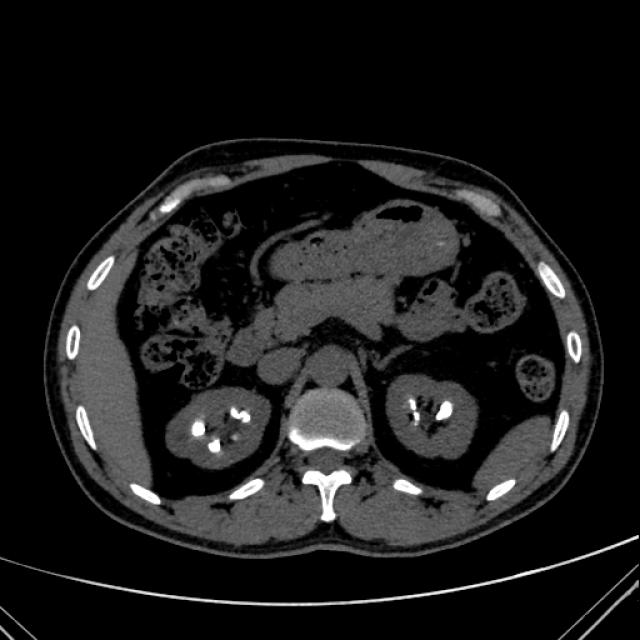kidneystone: (230, 406, 251, 423), (435, 401, 452, 421), (408, 398, 419, 426), (191, 421, 205, 436), (208, 439, 221, 453)
